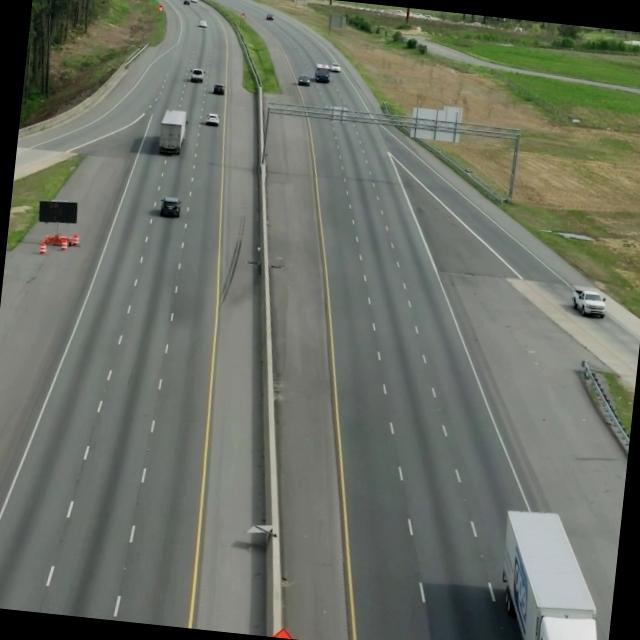Vehicle: (478, 501, 621, 640), (150, 106, 187, 157), (564, 283, 609, 320), (156, 191, 182, 222), (202, 111, 220, 128)
